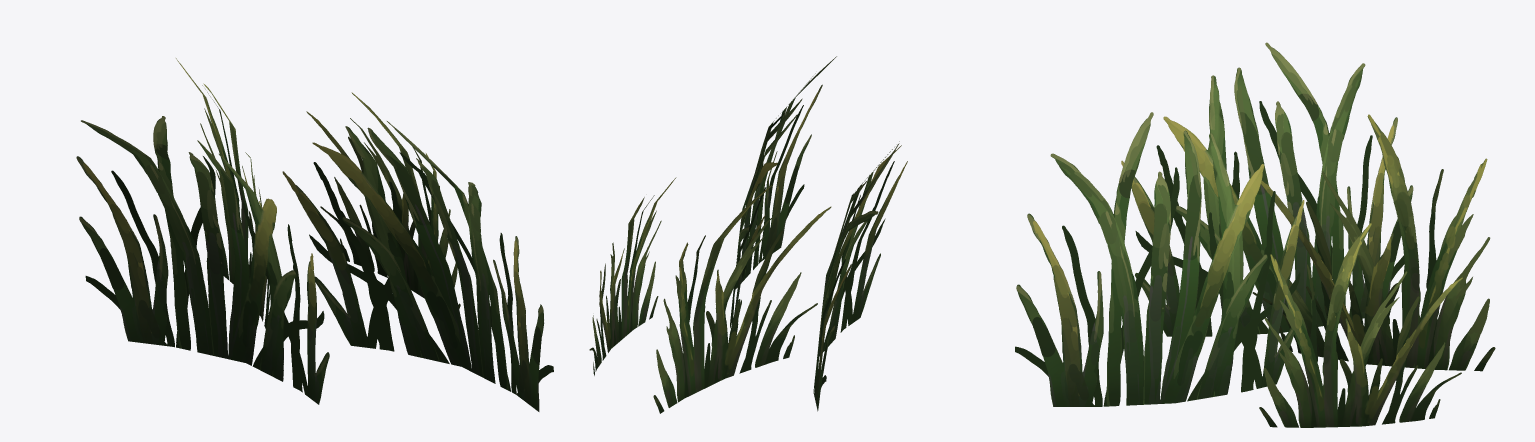
File: GrassPatch1_Mesh.fbx
3 views of the same model, side by side, from view 1: azimuth 30°, elevation 25°; view 2: azimuth 150°, elevation 25°; view 3: azimuth 270°, elevation 25° (orthographic). The views are drawn at different scales.
Visible parts, largest first — view 1: Plane.155; view 2: Plane.155; view 3: Plane.155.
Part boxes in pixels (<box>): Plane.155: <box>76,58,553,411</box>; Plane.155: <box>589,56,907,413</box>; Plane.155: <box>1015,42,1495,427</box>.
Size of the model in its own units: 0.7338 by 0.9827 by 0.5417.
